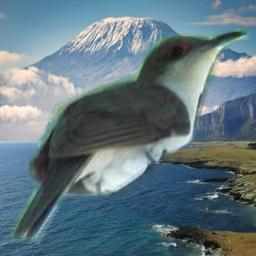Cuckoo: (9, 28, 252, 246)
